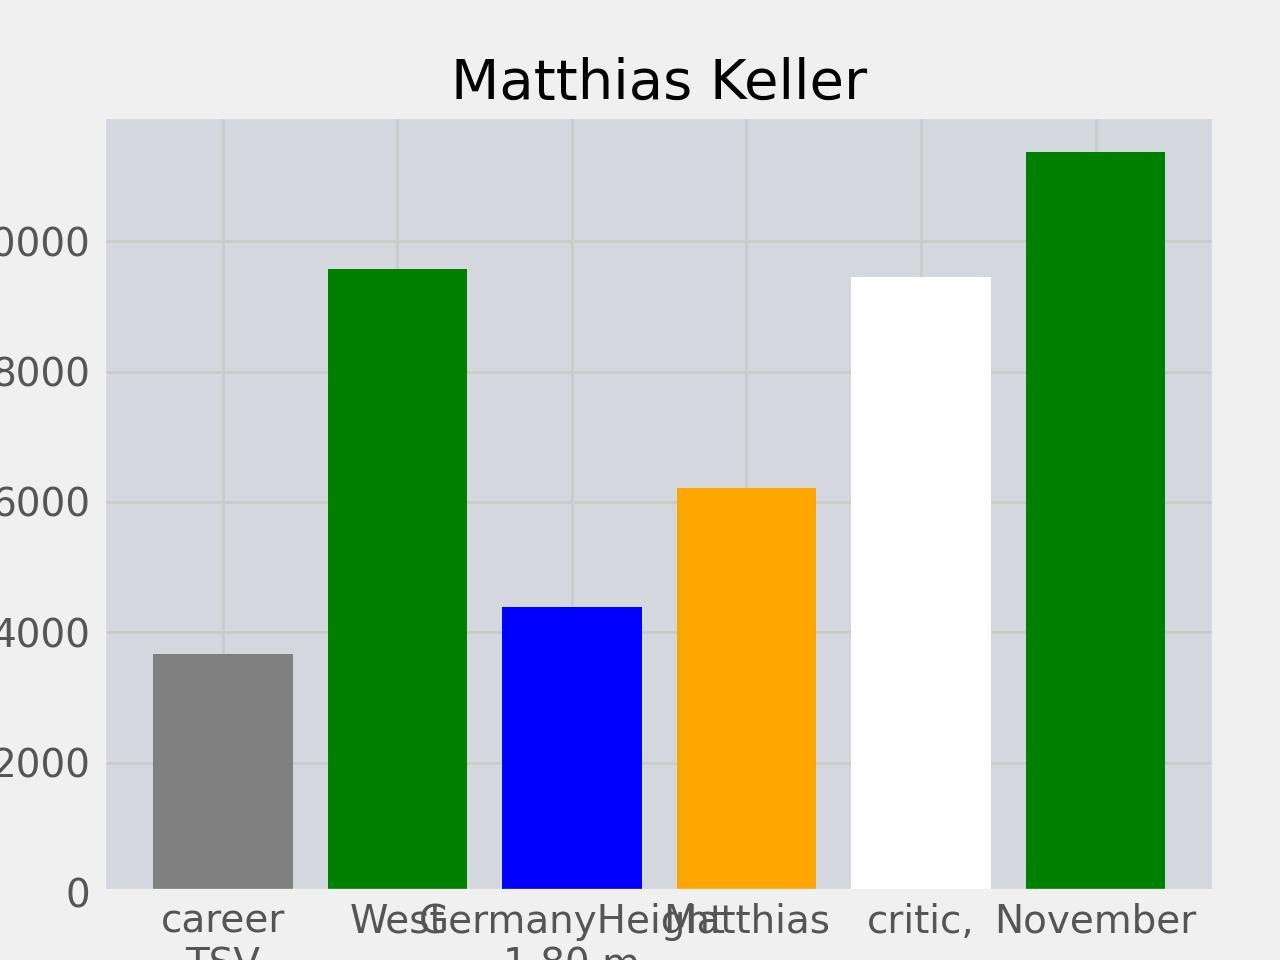axis: (0, 227, 90, 916)
rectangle: (1026, 152, 1166, 893), (328, 270, 468, 892), (851, 277, 991, 893), (676, 488, 816, 893), (502, 606, 642, 892), (153, 654, 293, 893)
